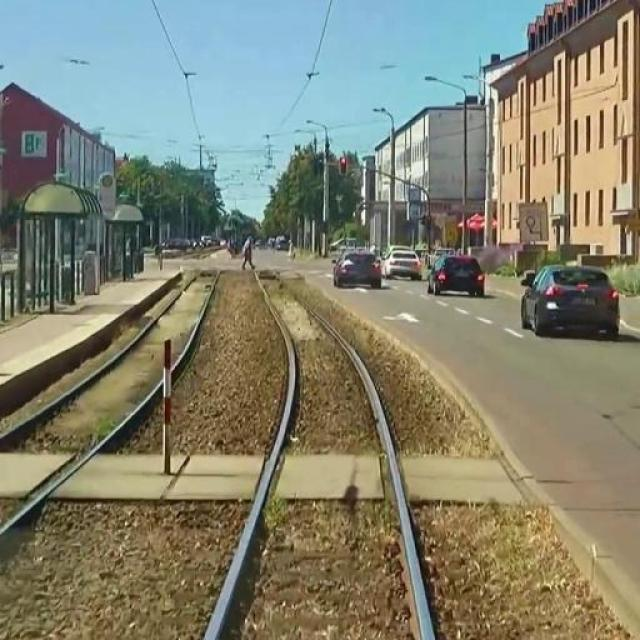people: (241, 235, 262, 271)
vehicle: (519, 262, 626, 336), (427, 253, 490, 302), (329, 247, 384, 296), (384, 248, 425, 278)
